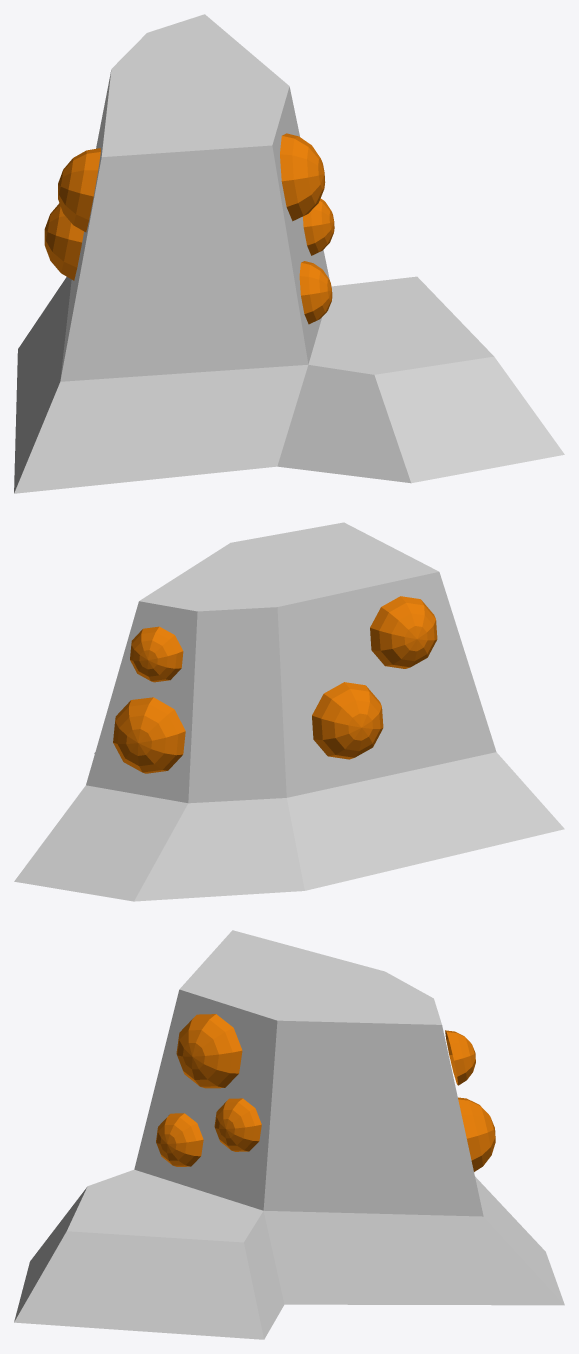
File: Ambar_Tipo3.fbx
The picture shows the model from 3 angles, top to bottom: view 1: azimuth 30°, elevation 25°; view 2: azimuth 150°, elevation 25°; view 3: azimuth 270°, elevation 25°; orthographic projection. The views are drawn at different scales.
Visible parts, largest first — view 1: base.024, ambar.007, ambar.011, ambar.010, ambar.009, ambar.008; view 2: base.024, ambar.006, ambar.010, ambar.011, ambar.005; view 3: base.024, ambar.007, ambar.009, ambar.008, ambar.006, ambar.005.
Boxes of the visible parts, x1,y1,x2,y2 form: base.024: (14,14,564,493); ambar.007: (280,133,325,221); ambar.011: (58,148,100,232); ambar.010: (44,203,83,280); ambar.009: (299,261,332,324); ambar.008: (303,198,334,255); base.024: (14,522,564,901); ambar.006: (113,697,185,773); ambar.010: (312,682,383,759); ambar.011: (370,596,437,668); ambar.005: (130,626,183,682); base.024: (14,930,564,1339); ambar.007: (176,1014,242,1088); ambar.009: (156,1113,203,1166); ambar.008: (214,1098,261,1151); ambar.006: (458,1097,495,1171); ambar.005: (445,1030,475,1085).
Bounding box in the file's own units: 75.27 × 41.9 × 83.81.
